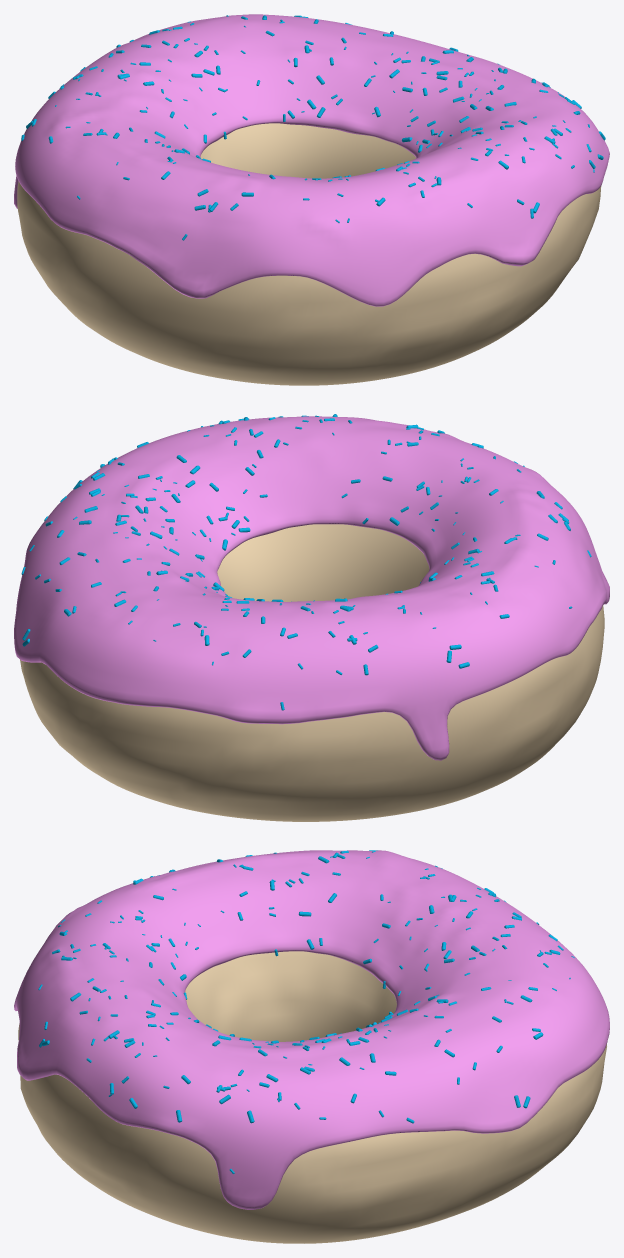
Rendered from Пончик.fbx.
3 views of the same model, one above another, from view 1: azimuth 30°, elevation 25°; view 2: azimuth 150°, elevation 25°; view 3: azimuth 270°, elevation 25° (orthographic). The views are drawn at different scales.
Visible parts, largest first — view 1: Глазурь, Пончик; view 2: Глазурь, Пончик; view 3: Глазурь, Пончик.
Boxes of the visible parts, x1,y1,x2,y2 form: Глазурь: [14, 14, 609, 306]; Пончик: [17, 123, 601, 385]; Глазурь: [14, 416, 609, 760]; Пончик: [20, 524, 604, 821]; Глазурь: [14, 850, 609, 1209]; Пончик: [18, 951, 606, 1243].
Bounding box in the file's own units: 16.57 × 6.47 × 16.56.
